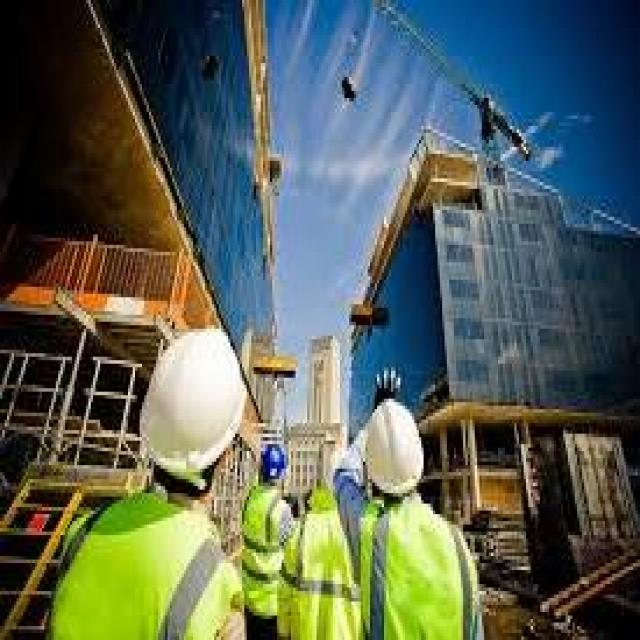Reflective-Jacket: (44, 493, 242, 640), (360, 504, 474, 636), (240, 486, 288, 616)
Safety-Helmet: (133, 322, 249, 482), (358, 395, 426, 497), (258, 437, 291, 483)
